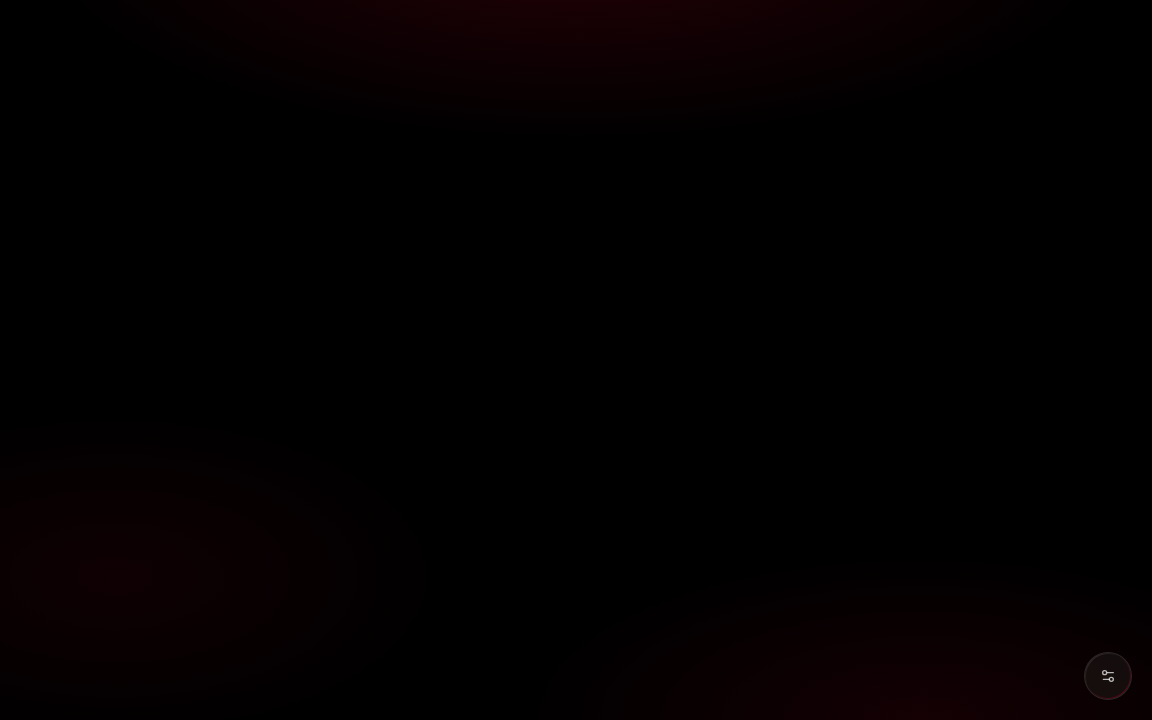
it: AccessibilityPanel › avisa cuando el idioma aún no tiene todo el contenido traducido
Click the button named "abrir panel de accesibilidad": click(1108, 676) [1084,652,1132,700]
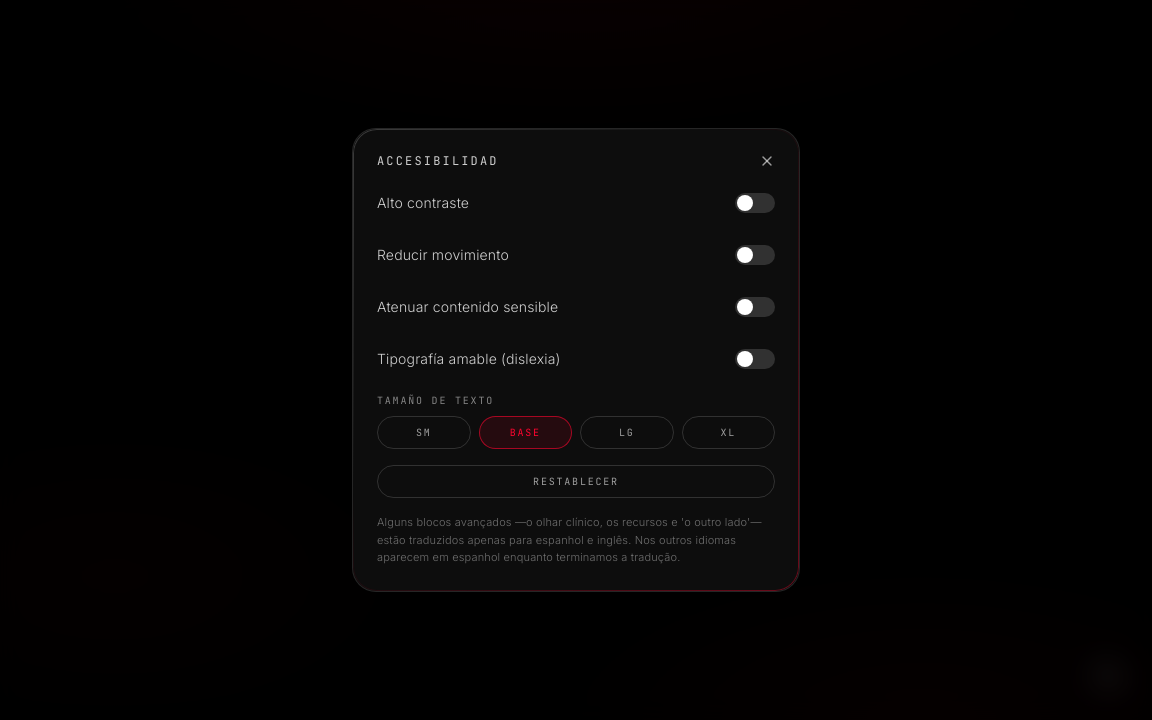
Result: the text "blocos avançados" is shown at [377,515,762,564]
